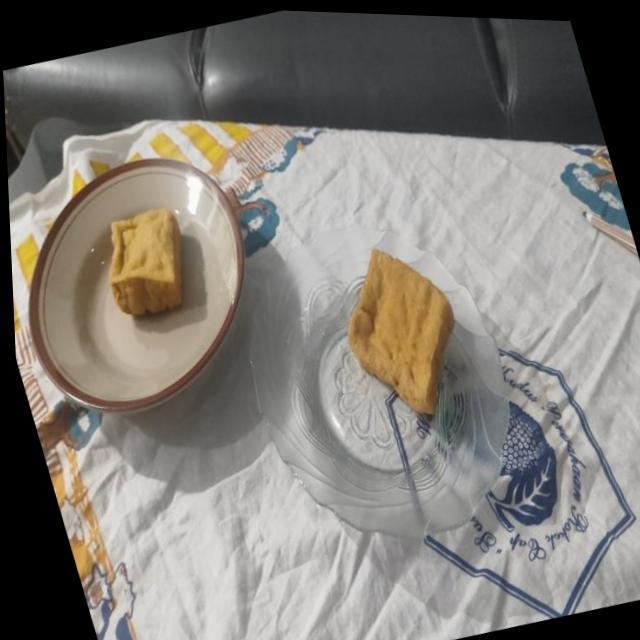tahu_goreng: (347, 249, 454, 414), (108, 208, 182, 315)
